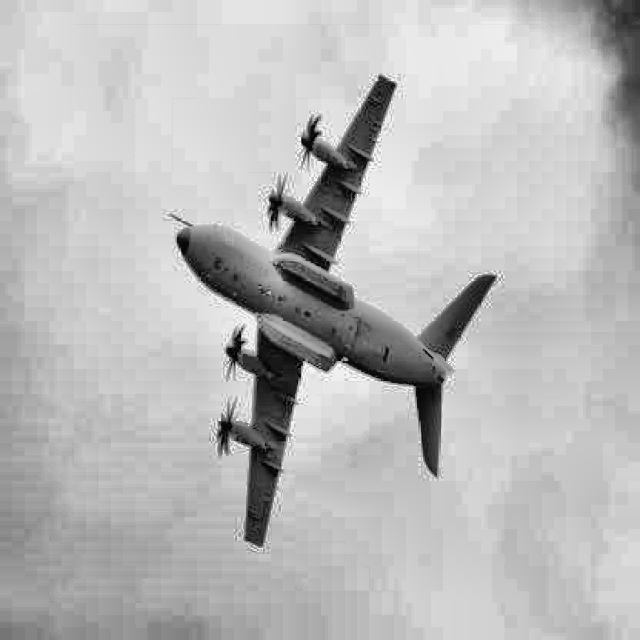A400M: (168, 74, 498, 548)
